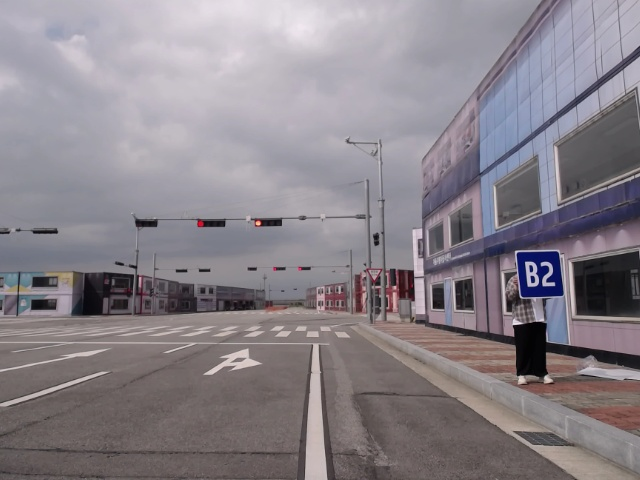delivery_b2: (513, 248, 566, 300)
red_4: (194, 216, 227, 228), (252, 217, 284, 229), (296, 265, 313, 272), (272, 266, 286, 272)
